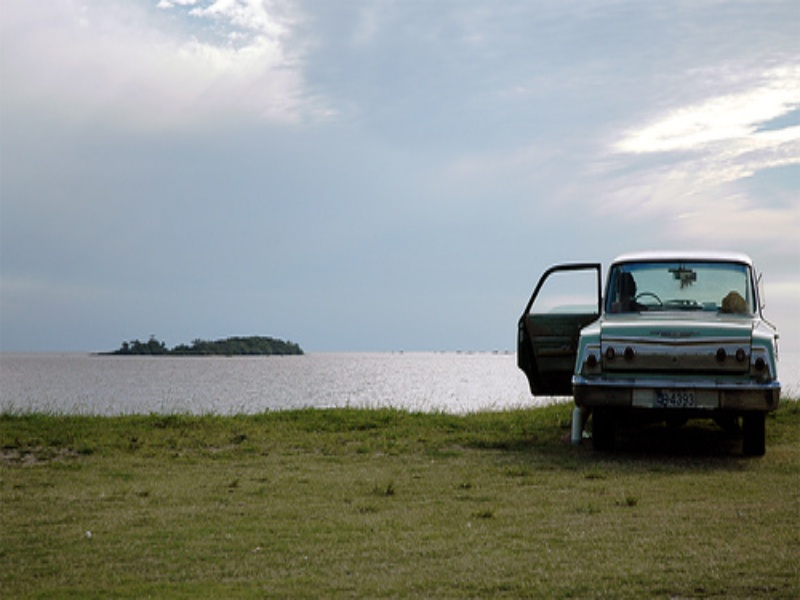car: (518, 252, 781, 456)
